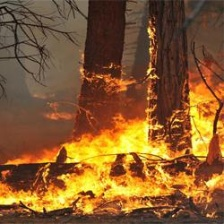fire: (2, 94, 222, 213), (81, 18, 169, 93)
